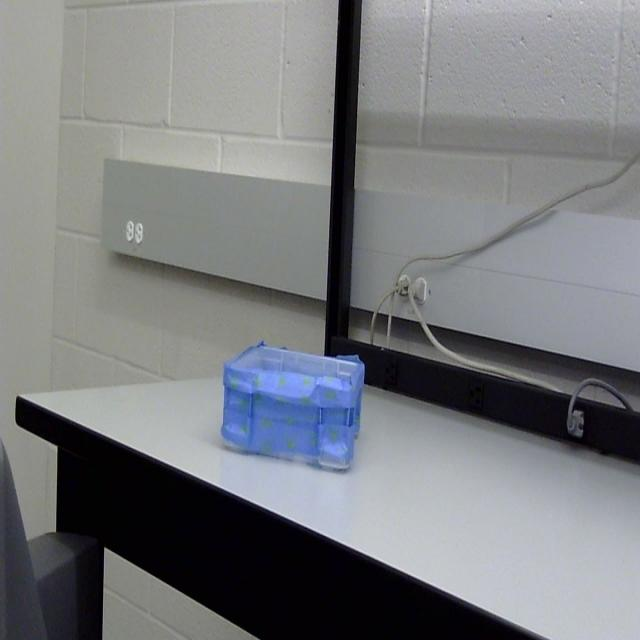bucket: (220, 337, 368, 473)
